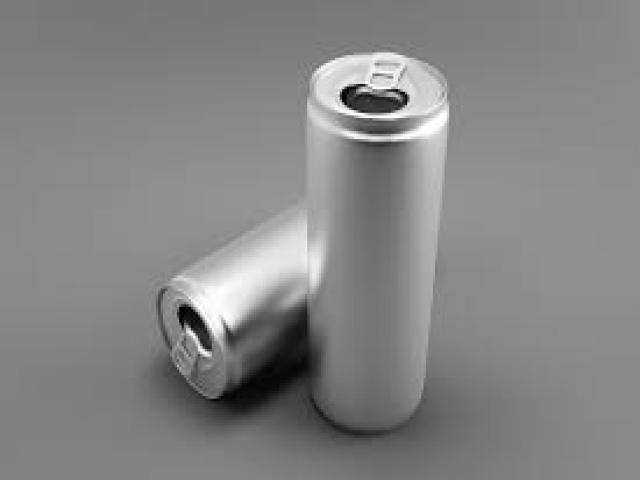Canned_drinks: (302, 50, 447, 435), (153, 189, 305, 401)
